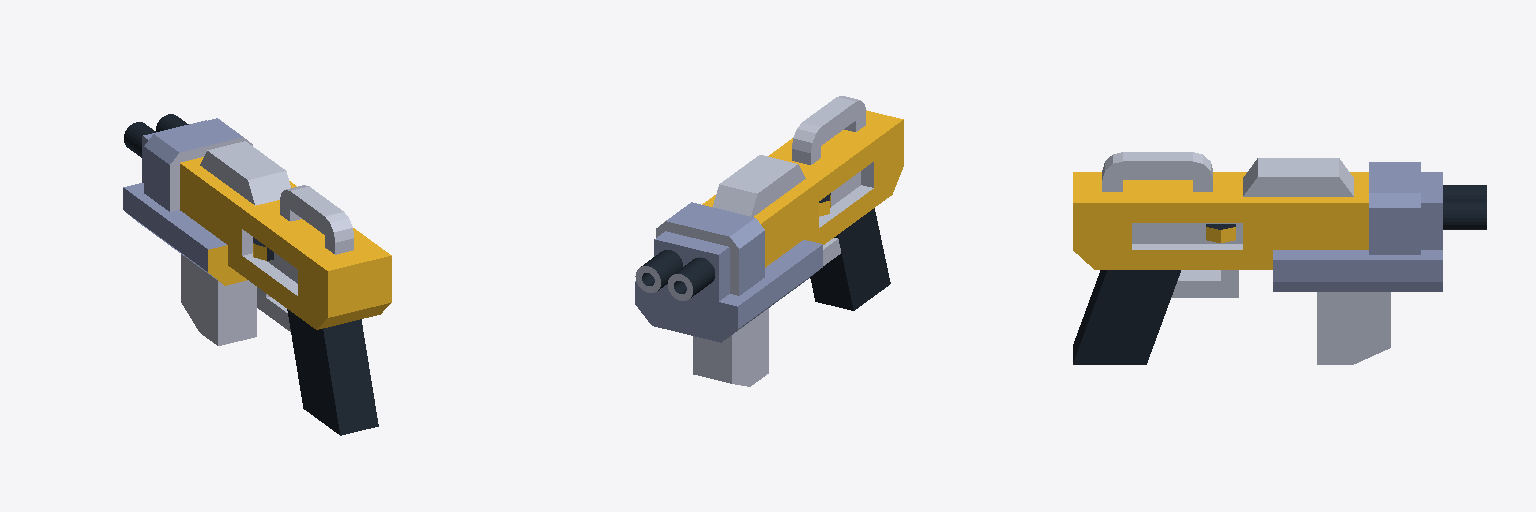
Rendered from blasterJ.obj.
3 views of the same model, side by side, from view 1: azimuth 30°, elevation 25°; view 2: azimuth 150°, elevation 25°; view 3: azimuth 270°, elevation 25° (orthographic).
Visible parts, largest first — view 1: blasterJ; view 2: blasterJ; view 3: blasterJ.
Part boxes in pixels (x1,y1,x2,y2): blasterJ: (123,114,391,435); blasterJ: (635,96,903,386); blasterJ: (1073,152,1486,364).
Bounding box in the file's own units: 0.16 × 0.2959 × 0.56.